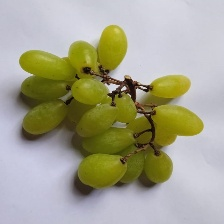grapes: (40, 13, 211, 198)
